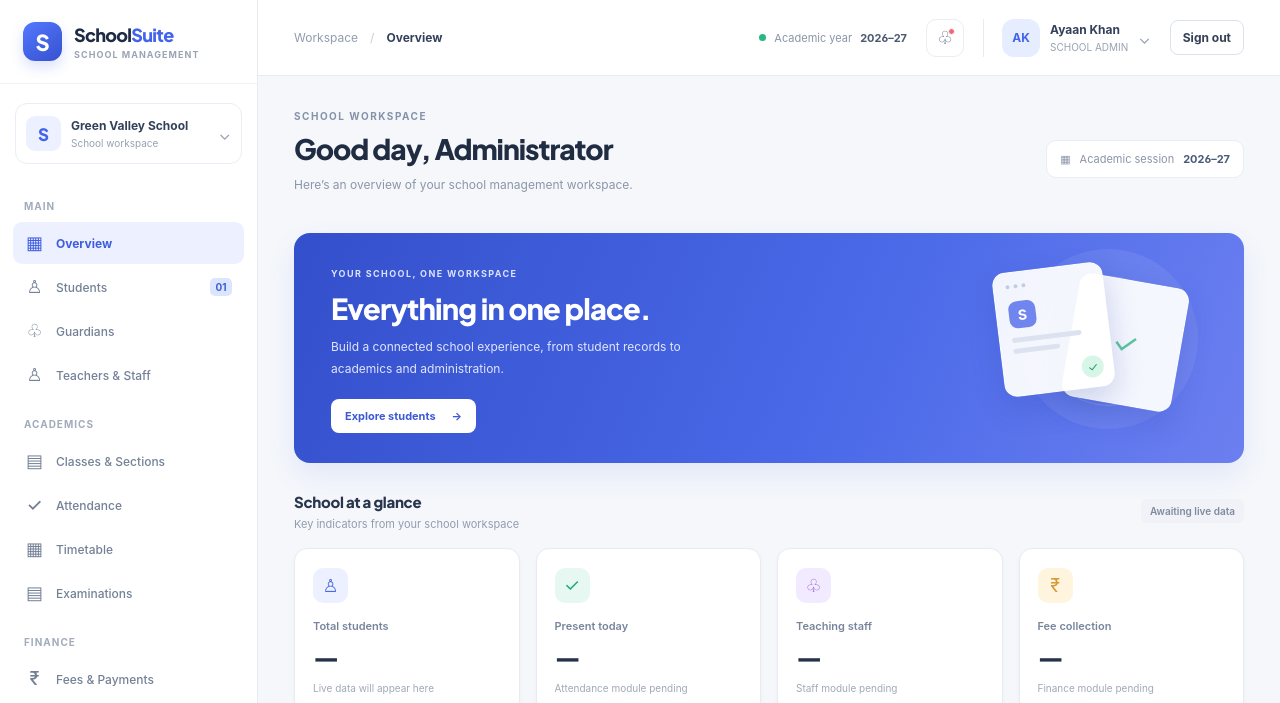
App › shows a placeholder for unfinished modules
The image size is (1280, 703).
Click the button "✓ Attendance" at point(128, 505), box [13,484,244,526]
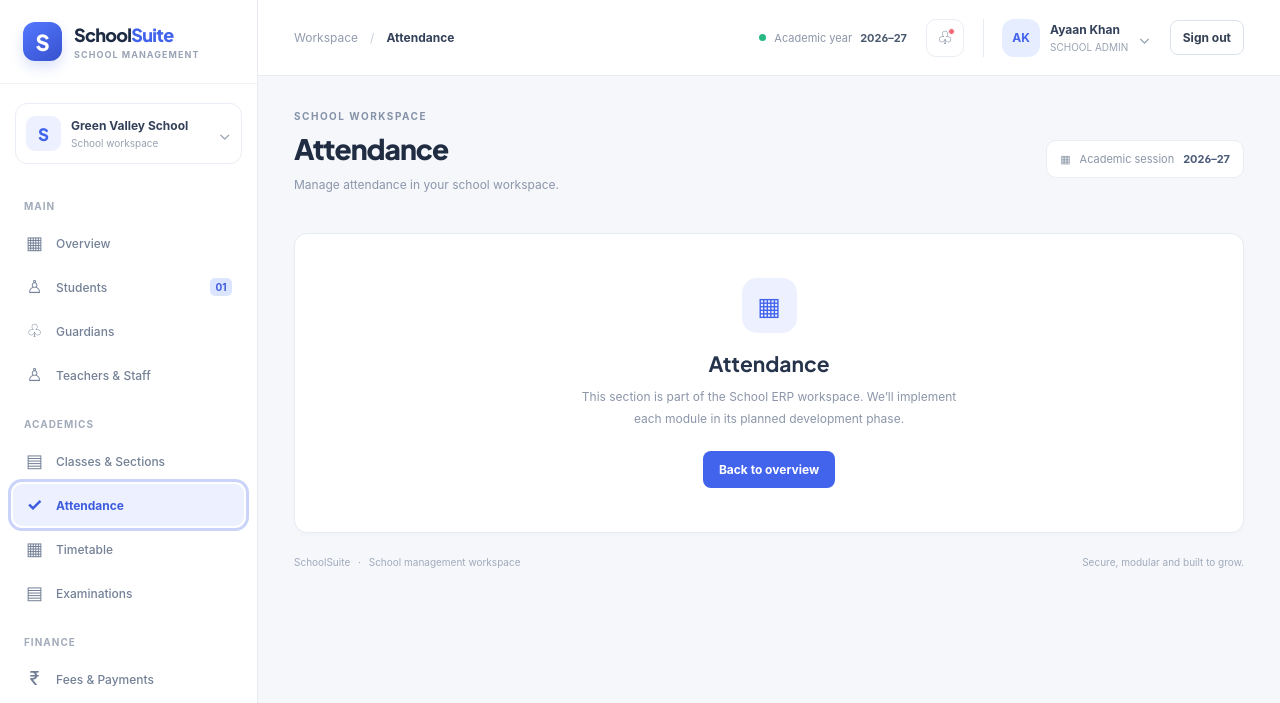
Expected: the heading "Attendance" in the row of "Academic session" is shown, [294,131,448,166]
Expected: the button "Back to overview" is shown, [703,452,835,488]
